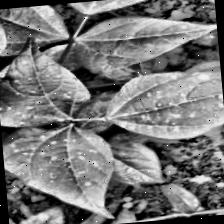Bean Rust: (1, 121, 116, 224), (103, 67, 224, 145), (0, 38, 92, 129)
